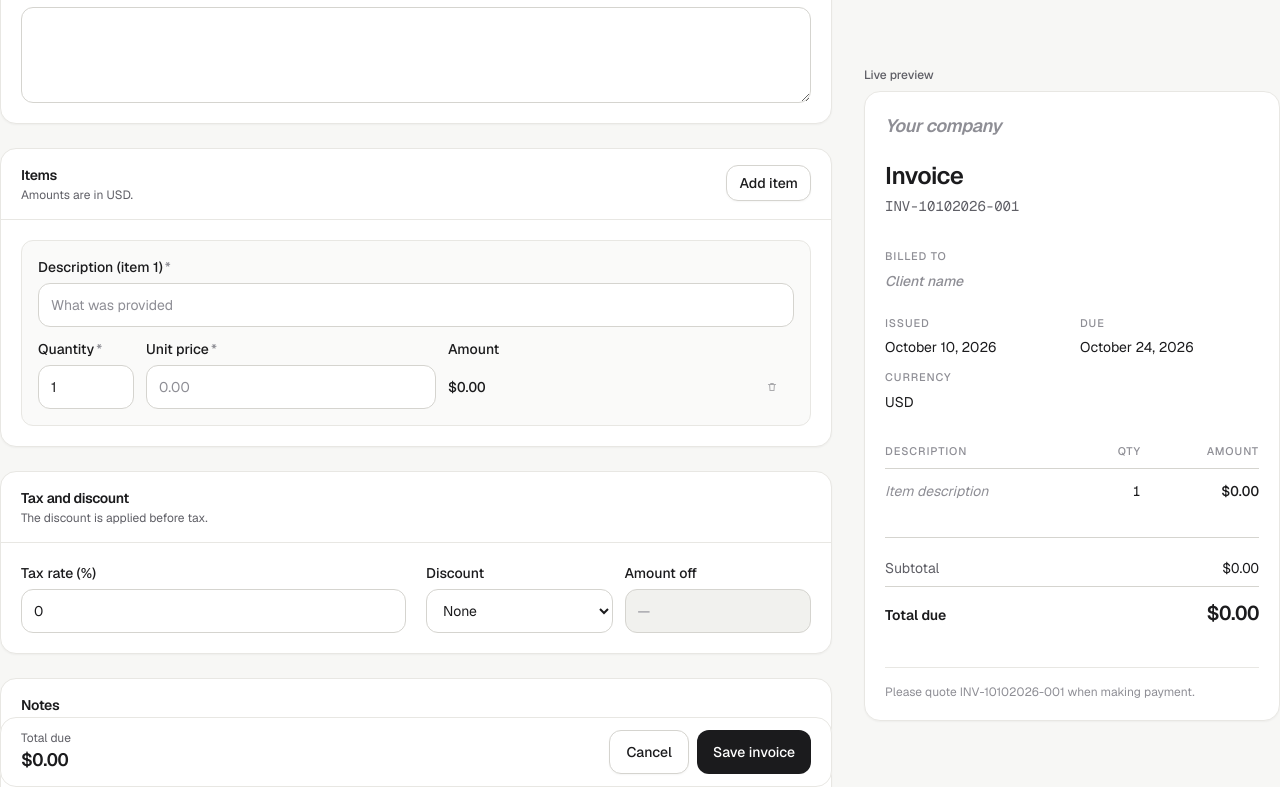
InvoiceForm: a new document › recalculates the preview exactly as you type
(page scrolled)
Replace the text in the field labelled "Quantity" with "3" at (86, 387), box [38,365,134,409]
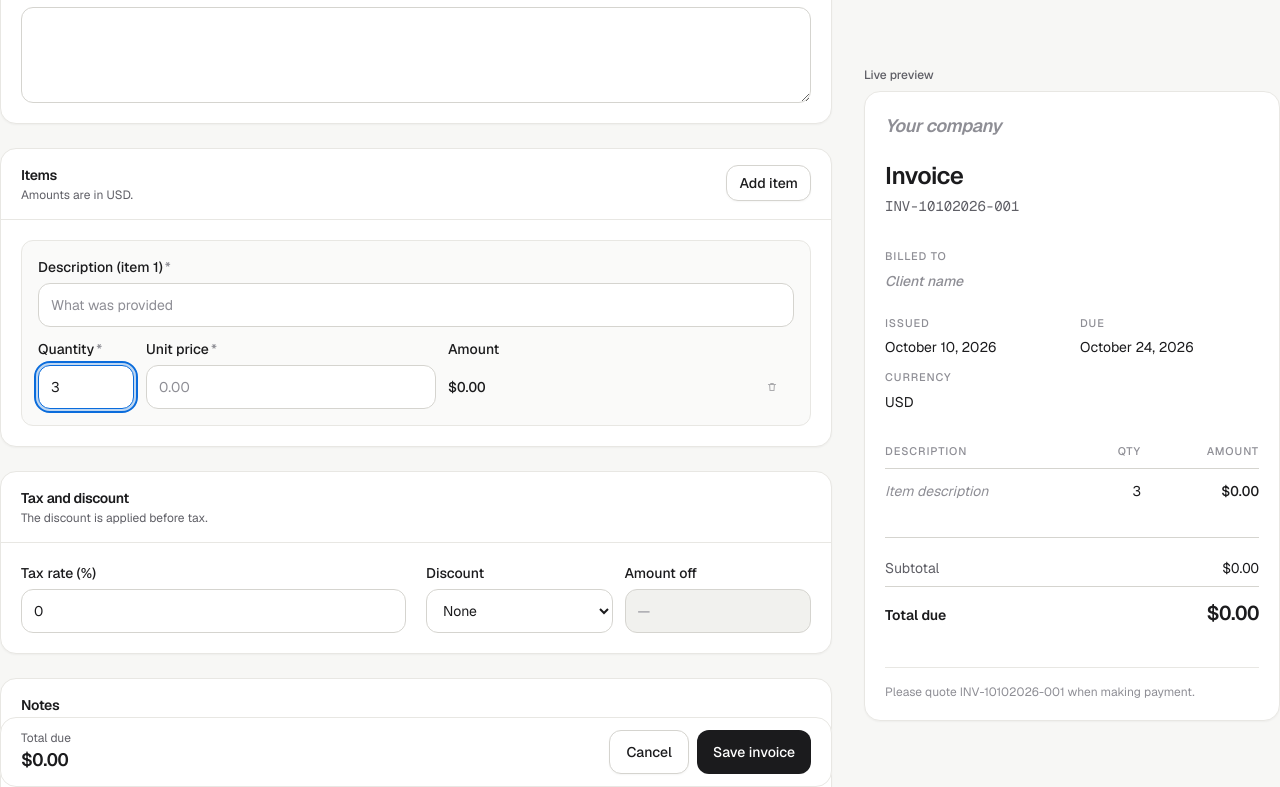
Type "19.99" into the field labelled "Unit price" at (291, 387), box [146,365,436,409]
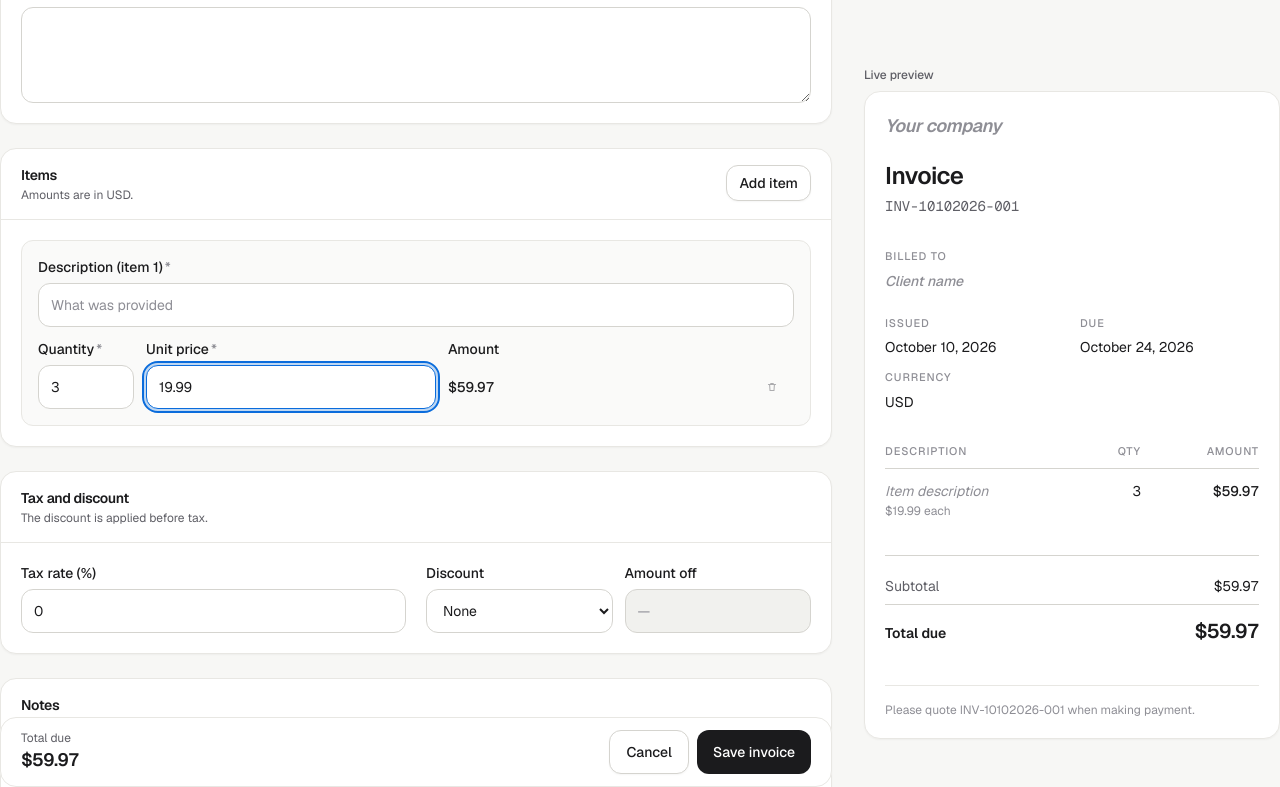
Replace the text in the field labelled "Tax rate (%)" with "10" at (214, 611), box [21,589,406,633]
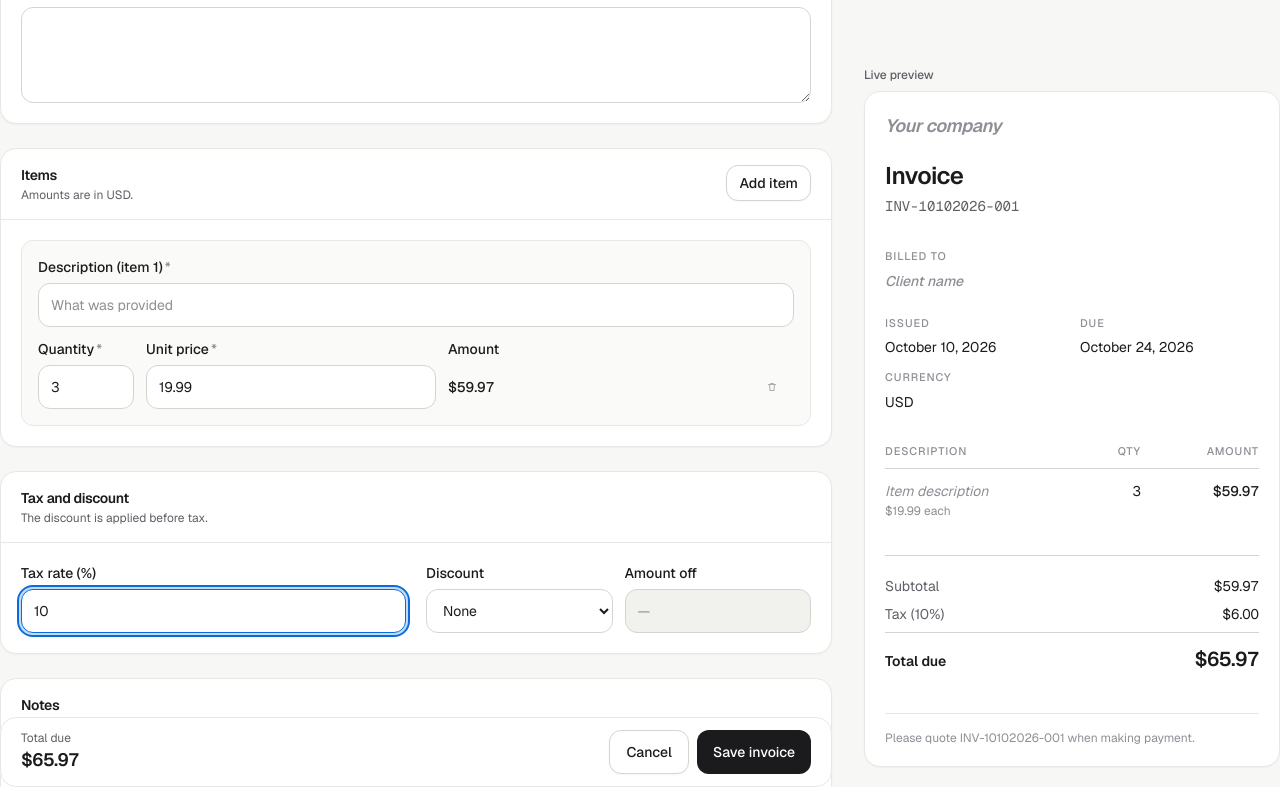
Check: the text "$59.97" in the row of "Subtotal" is shown, box [1214,576,1259,594]
Check: the text "$6.00" is shown, box [1222,603,1259,623]
Check: the text "$65.97" below "$6.00" is shown, box [1194,645,1259,671]
